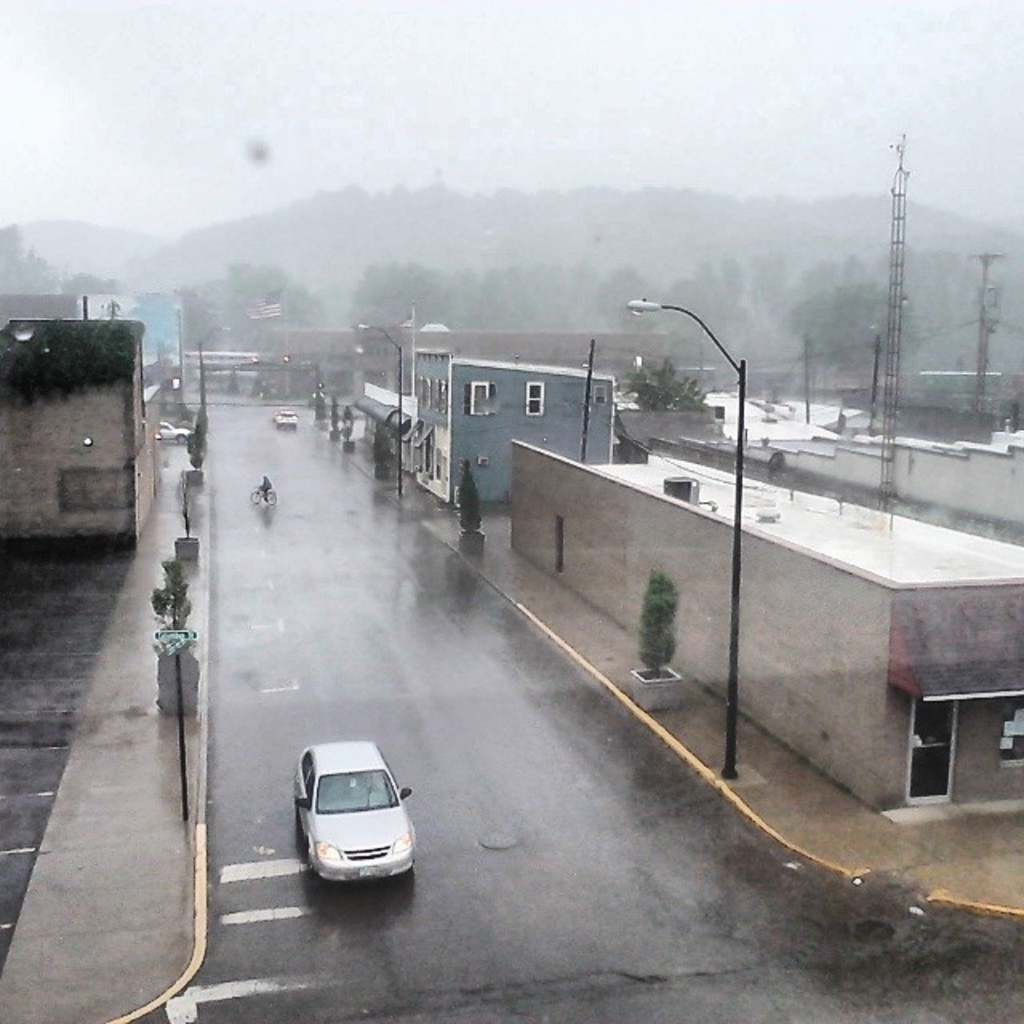Car: (291, 745, 430, 903), (272, 406, 299, 428), (160, 419, 188, 440)
